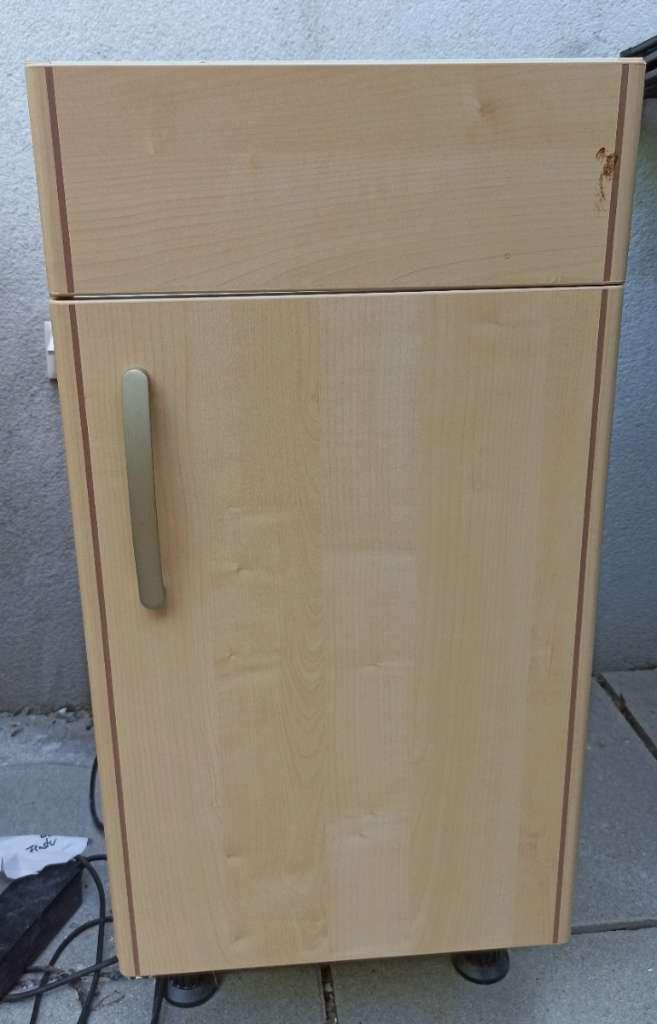cabinet_door: (88, 296, 604, 945), (52, 67, 622, 298)
handle: (115, 362, 170, 625)
